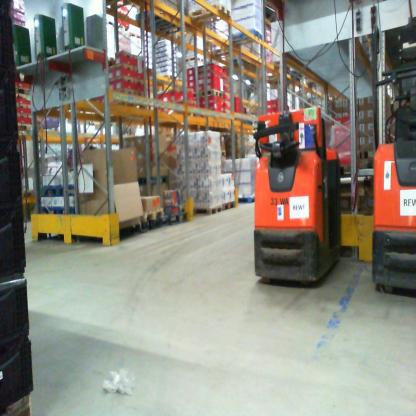pallet: (193, 4, 235, 30), (137, 4, 181, 27), (156, 14, 190, 38), (31, 177, 62, 201), (3, 388, 31, 413), (8, 185, 35, 207), (13, 80, 34, 101), (136, 207, 165, 222), (193, 87, 224, 100), (187, 205, 223, 215), (235, 194, 258, 205), (222, 199, 236, 214)
pallet_truck: (250, 100, 344, 297), (368, 59, 416, 298)
